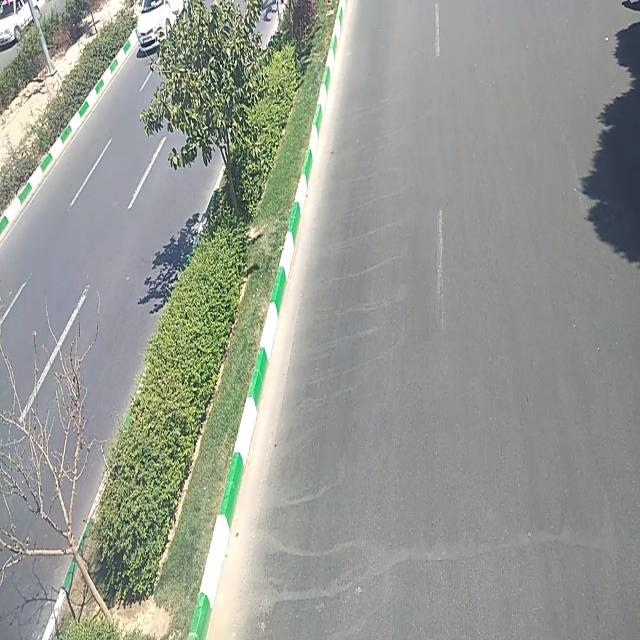car: (130, 0, 186, 44), (0, 1, 44, 47)
